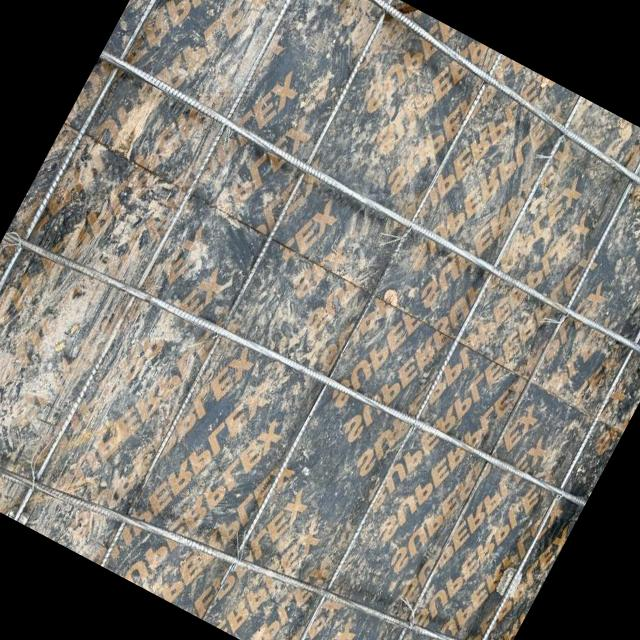ribbed bar: (1, 198, 588, 540), (88, 0, 404, 568), (196, 52, 504, 621), (93, 47, 640, 367), (277, 96, 588, 640), (10, 0, 317, 521), (350, 134, 640, 640), (0, 355, 504, 640), (416, 169, 640, 640), (0, 0, 210, 464), (288, 0, 640, 245)
